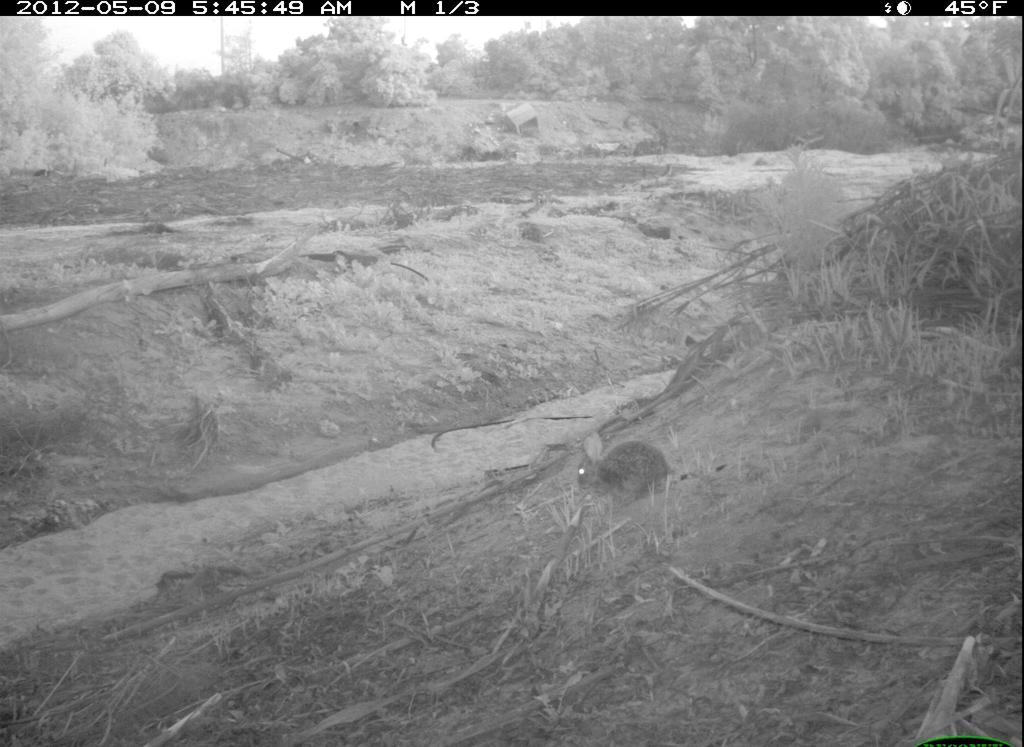rabbit: (569, 424, 679, 513)
